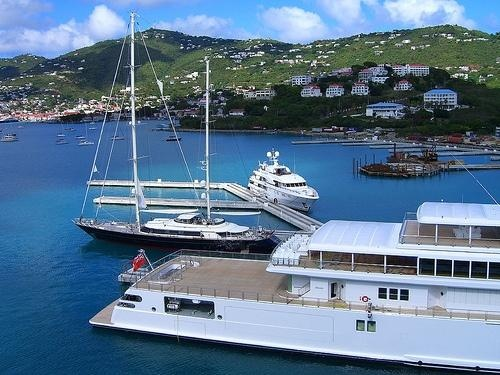boat: (88, 201, 500, 375), (74, 13, 286, 255), (249, 149, 321, 212)
